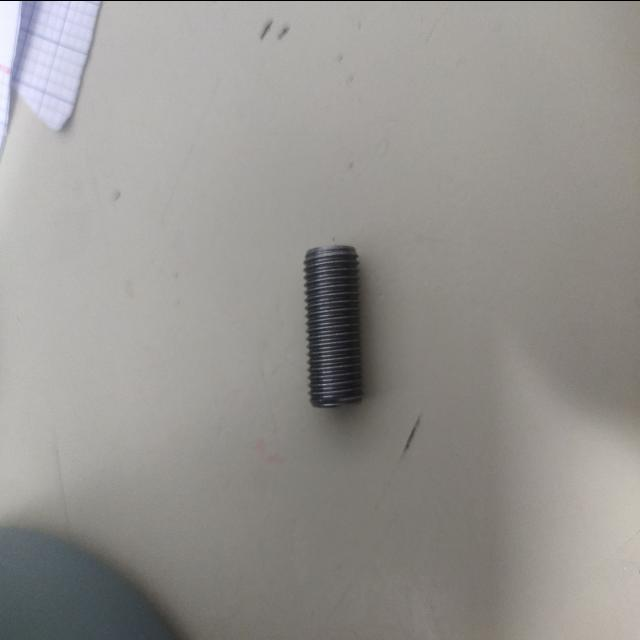Normal: (302, 241, 366, 407)
